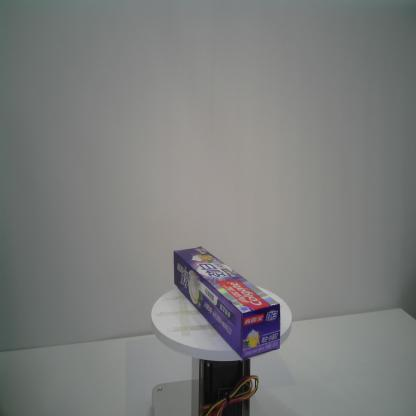Personal Hygiene: (173, 245, 281, 359)
